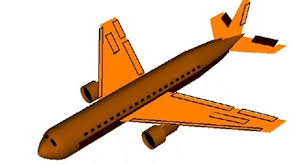maybay_dansu: (40, 5, 289, 162)
